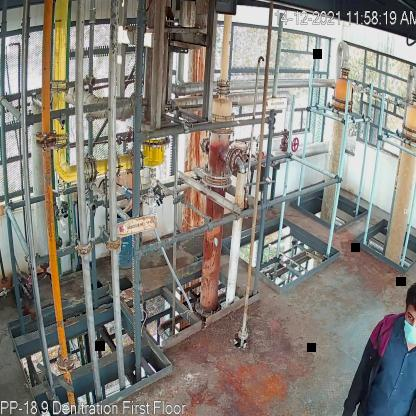no_goggles: (405, 310, 416, 327)
